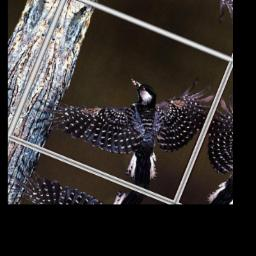Woodpecker: (27, 30, 218, 198)
